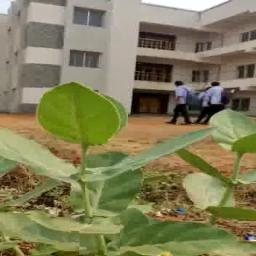Calotropis: (85, 154, 133, 218), (4, 209, 73, 243), (176, 223, 244, 256), (79, 217, 121, 255), (220, 112, 255, 154), (130, 216, 166, 255), (72, 106, 108, 144), (43, 84, 70, 133), (4, 128, 40, 164), (194, 177, 238, 206), (47, 150, 77, 186), (180, 152, 218, 176), (74, 83, 108, 105), (222, 206, 255, 222), (140, 144, 175, 158), (173, 132, 213, 142), (241, 170, 255, 181)
